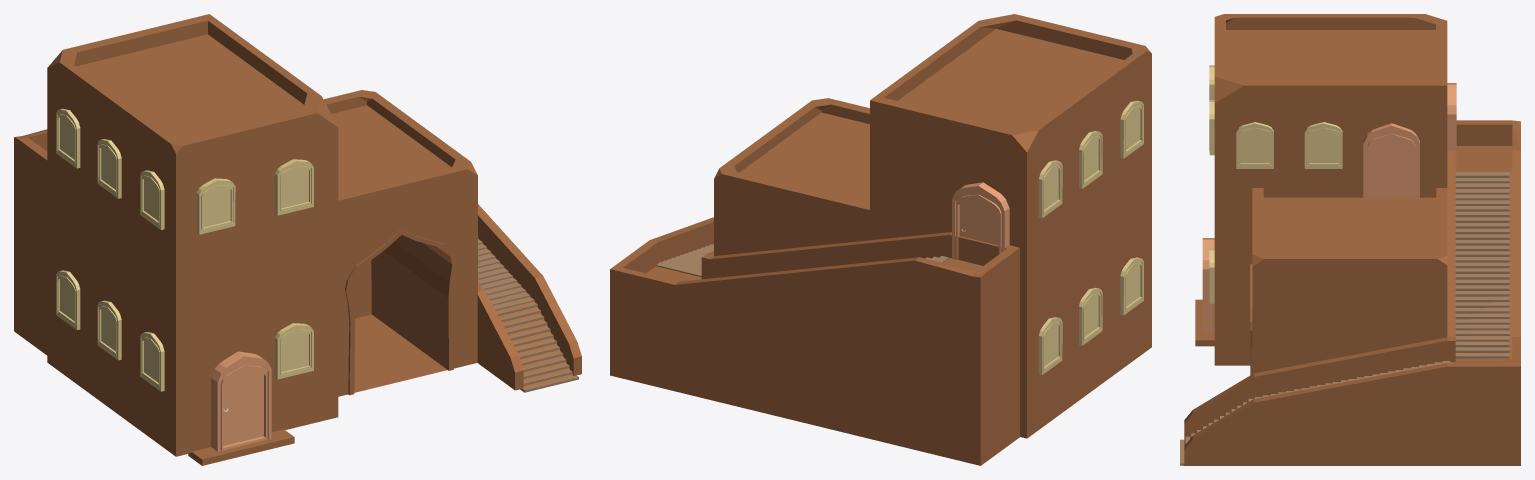
The model's file is huisdaphnev7 2.fbx.
3 views of the same model, side by side, from view 1: azimuth 30°, elevation 25°; view 2: azimuth 150°, elevation 25°; view 3: azimuth 270°, elevation 25° (orthographic). The views are drawn at different scales.
Parts seen in each view (by area): view 1: Cube.002, railing, Cube.003, staris1, Cube.005, Cube.006, Cube.016, staris2, Cube.009, Cube.013, Cube.014, Cube.008 (+2 smaller); view 2: Cube.002, railing, Cube.001, Cube.009, Cube.015, Cube.007, Cube.014, Cube.013, Cube.008, staris2; view 3: Cube.002, railing, staris3, Cube.010, Cube.011, Cube.012, Cube.003, Cube.001, staris2.
Boxes of the visible parts, box(x1,y1,x2,y2) form: Cube.002: box(47, 14, 477, 465); railing: box(14, 129, 581, 390); Cube.003: box(211, 351, 271, 451); staris1: box(496, 303, 578, 392); Cube.005: box(196, 178, 235, 234); Cube.006: box(275, 159, 313, 215); Cube.016: box(275, 323, 313, 379); staris2: box(478, 237, 534, 310); Cube.009: box(56, 108, 80, 168); Cube.013: box(140, 332, 164, 391); Cube.014: box(97, 300, 121, 360); Cube.008: box(97, 139, 121, 198); Cube.002: box(714, 14, 1151, 438); railing: box(610, 217, 1019, 465); Cube.001: box(952, 182, 1009, 259); Cube.009: box(1038, 160, 1062, 218); Cube.015: box(1038, 317, 1062, 374); Cube.007: box(1120, 100, 1143, 158); Cube.014: box(1079, 287, 1102, 345); Cube.013: box(1120, 257, 1143, 315); Cube.008: box(1079, 131, 1102, 188); staris2: box(656, 244, 713, 277); Cube.002: box(1195, 14, 1447, 375); railing: box(1184, 120, 1520, 465); staris3: box(1453, 172, 1509, 362); Cube.010: box(1363, 123, 1419, 199); Cube.011: box(1304, 122, 1342, 168); Cube.012: box(1236, 122, 1273, 168); Cube.003: box(1202, 238, 1214, 331); Cube.001: box(1447, 83, 1456, 170); staris2: box(1255, 361, 1450, 398).
Bounding box in the file's own units: 1745 × 1341 × 1449.
